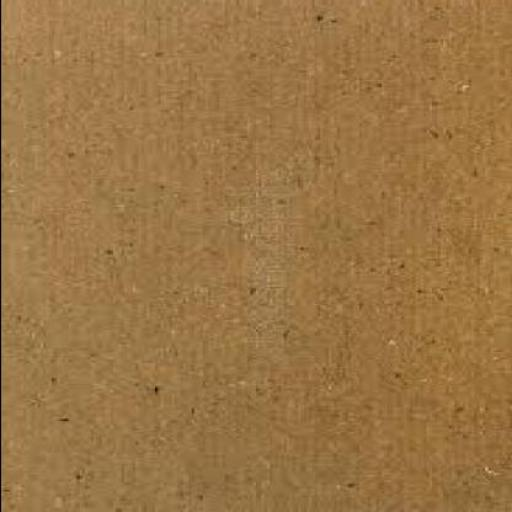cardboard: (1, 1, 510, 511)
